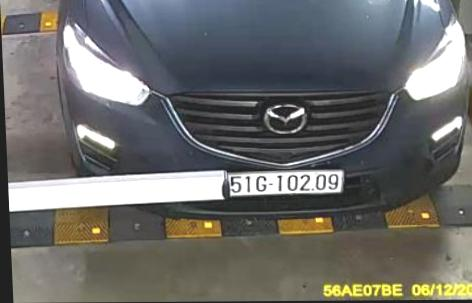License_Plate: (220, 165, 352, 205)
